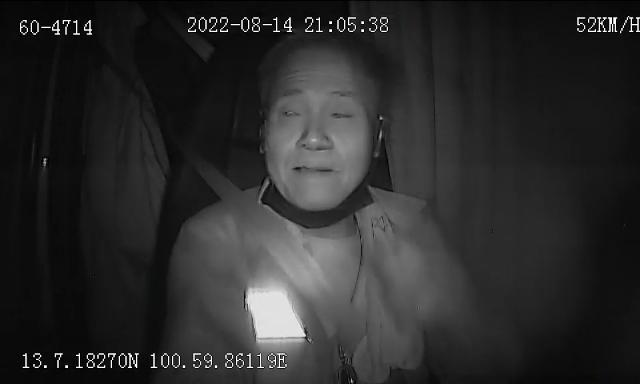SafeDriving: (270, 96, 308, 126)
Seatbelt: (200, 162, 366, 348)
